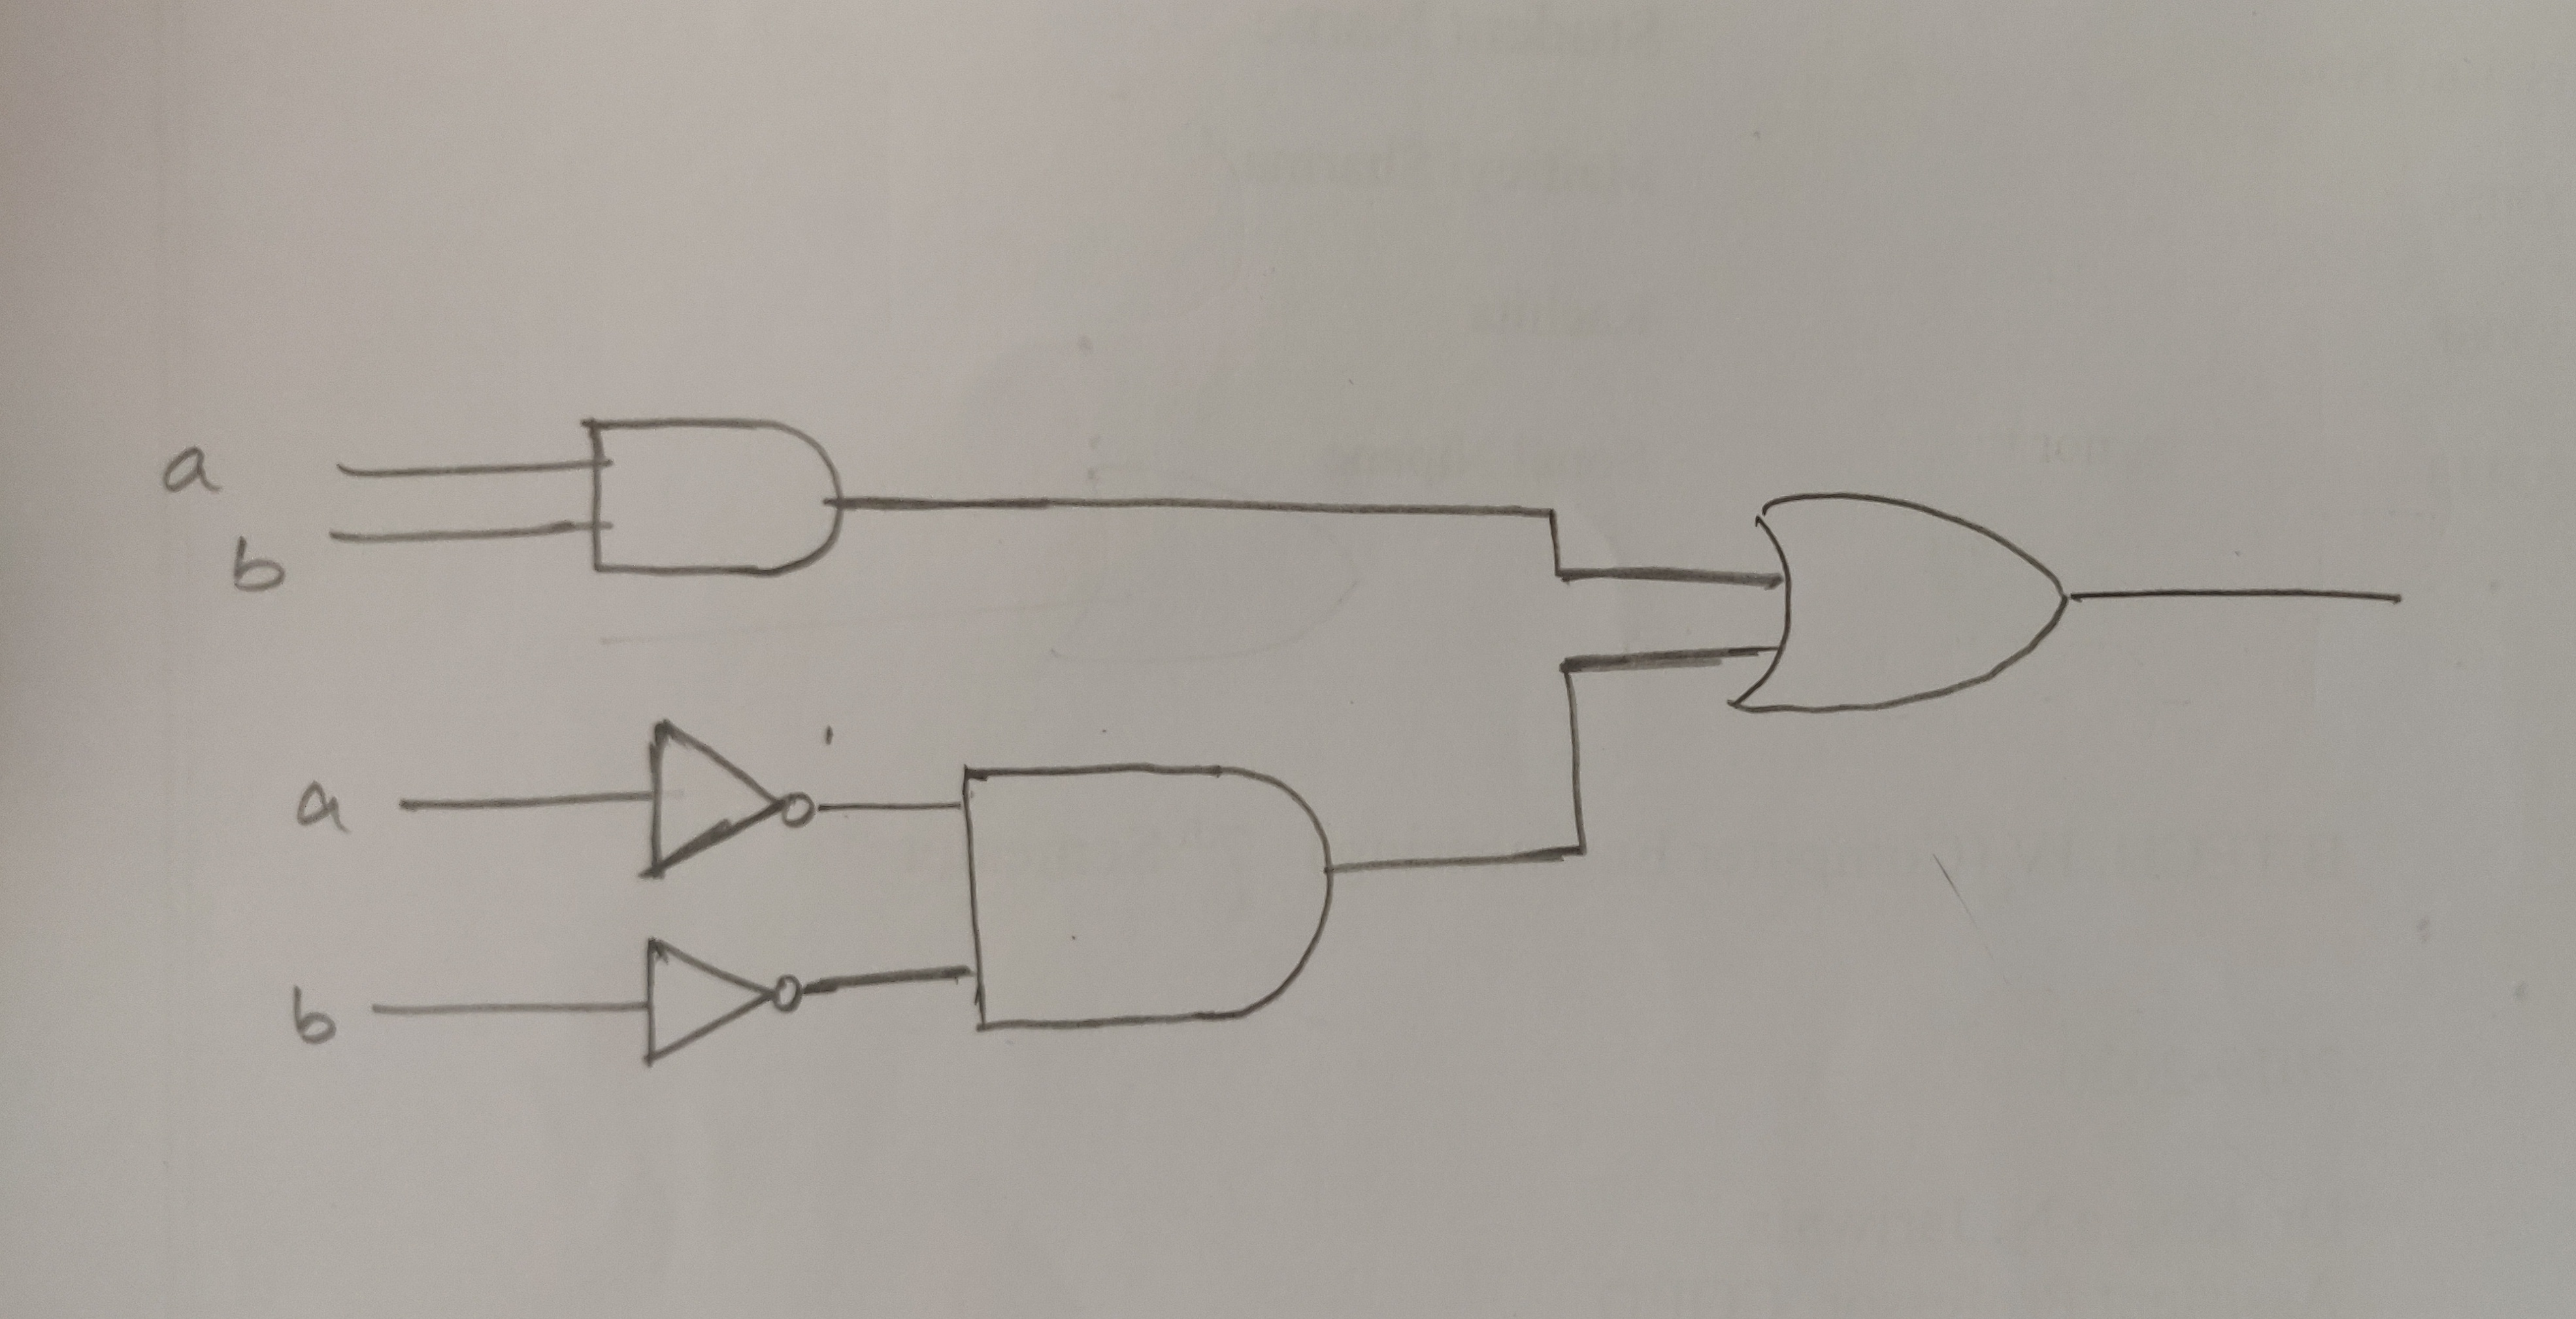and: (909, 688, 1366, 1124), (495, 365, 890, 622)
not: (606, 698, 840, 907), (621, 927, 846, 1083)
or: (1696, 453, 2192, 737)
